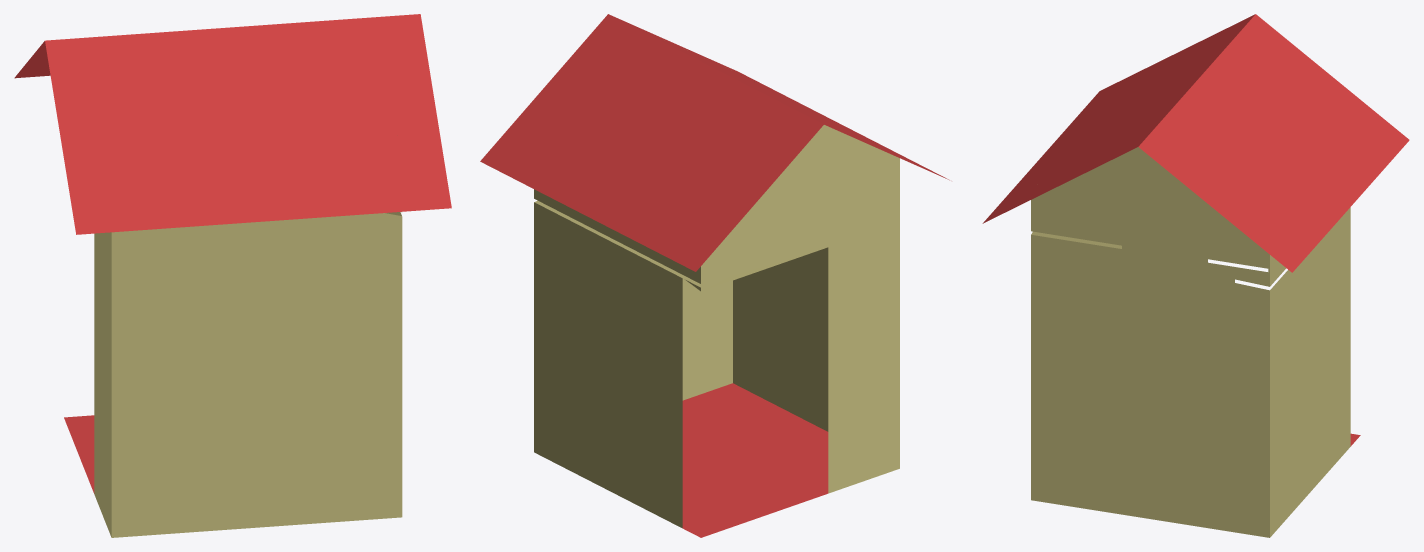
The picture shows the model from 3 angles, left to right: view 1: azimuth 30°, elevation 25°; view 2: azimuth 150°, elevation 25°; view 3: azimuth 270°, elevation 25°; orthographic projection. The views are drawn at different scales.
Bounding box in the file's own units: 11.31 × 11.24 × 11.23.
